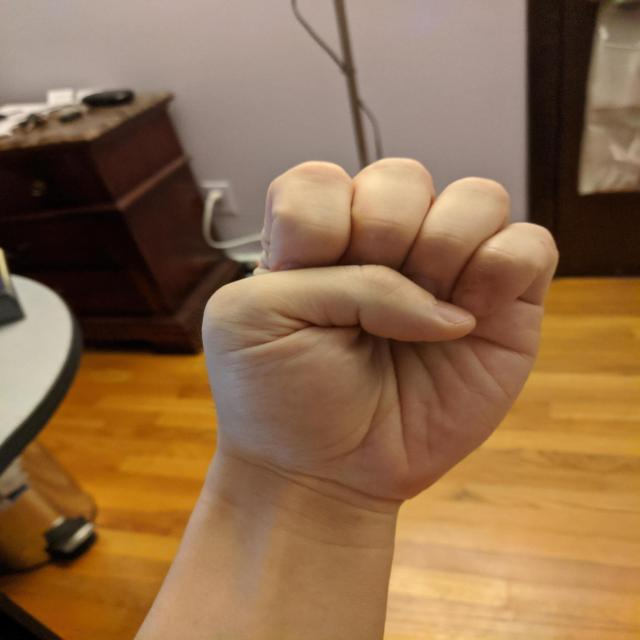E: (195, 155, 564, 508)
